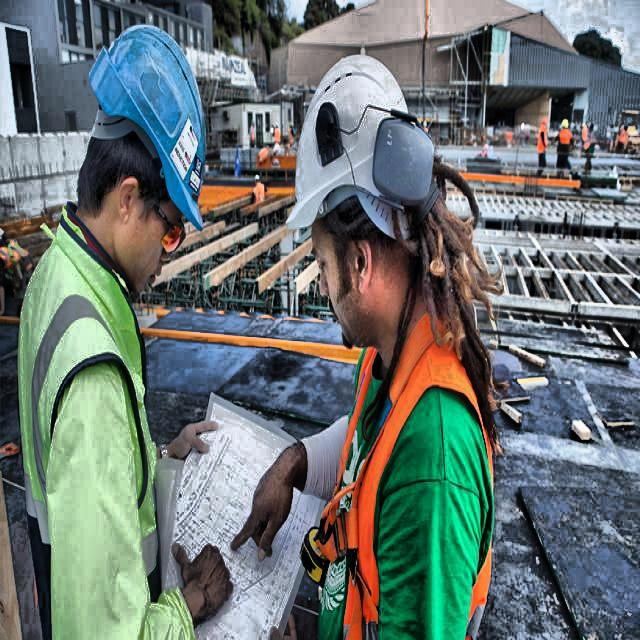person: (283, 31, 503, 640), (19, 13, 227, 634), (536, 114, 550, 168)
